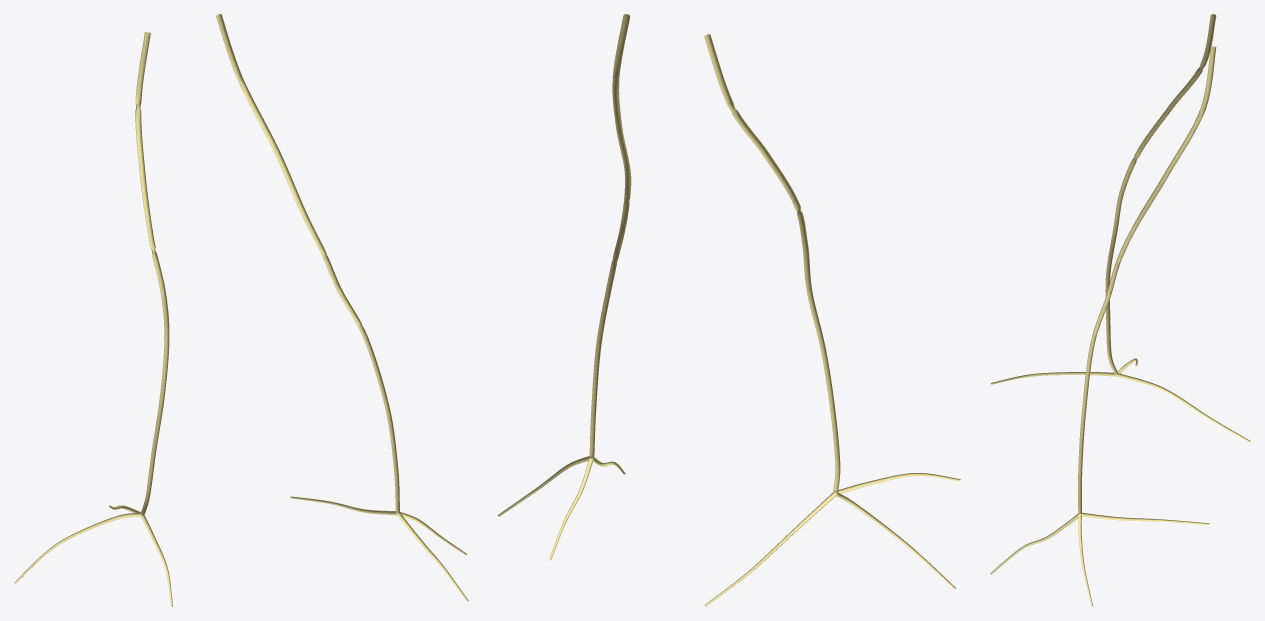
File: anatomyverse-phrenic.glb
3 views of the same model, side by side, from view 1: azimuth 30°, elevation 25°; view 2: azimuth 150°, elevation 25°; view 3: azimuth 270°, elevation 25° (orthographic). The views are drawn at different scales.
Visible parts, largest first — view 1: zp_phrenic_l, zp_phrenic_r; view 2: zp_phrenic_r, zp_phrenic_l; view 3: zp_phrenic_l, zp_phrenic_r.
Boxes of the visible parts, x1,y1,x2,y2 form: zp_phrenic_l: [216, 14, 468, 601]; zp_phrenic_r: [14, 32, 172, 606]; zp_phrenic_r: [704, 34, 960, 606]; zp_phrenic_l: [497, 14, 631, 560]; zp_phrenic_l: [990, 46, 1216, 606]; zp_phrenic_r: [991, 14, 1250, 442].
Bounding box in the file's own units: 0.2536 × 0.3028 × 0.1486.
